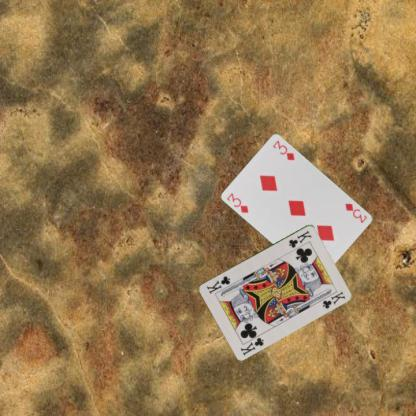3d: (342, 201, 368, 224), (225, 191, 250, 214)
Kc: (237, 334, 264, 356), (286, 228, 313, 249)
